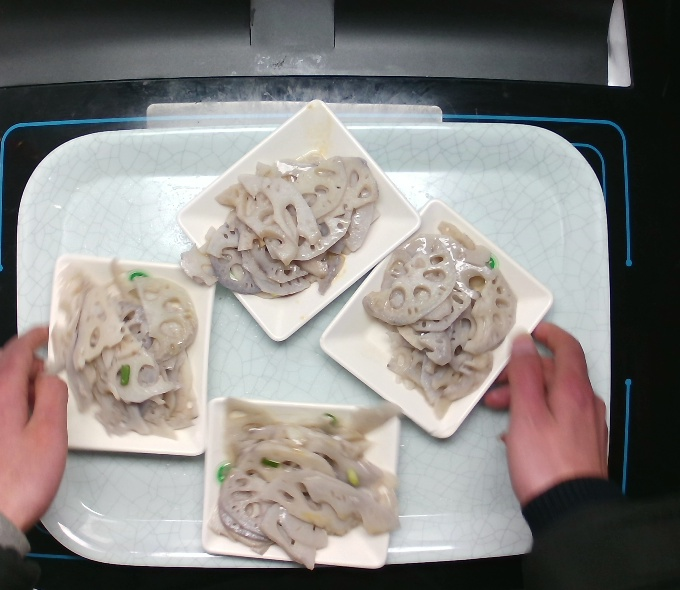wcq-OuPian: (180, 143, 401, 307), (363, 209, 527, 415), (210, 396, 394, 562), (51, 246, 202, 444)
